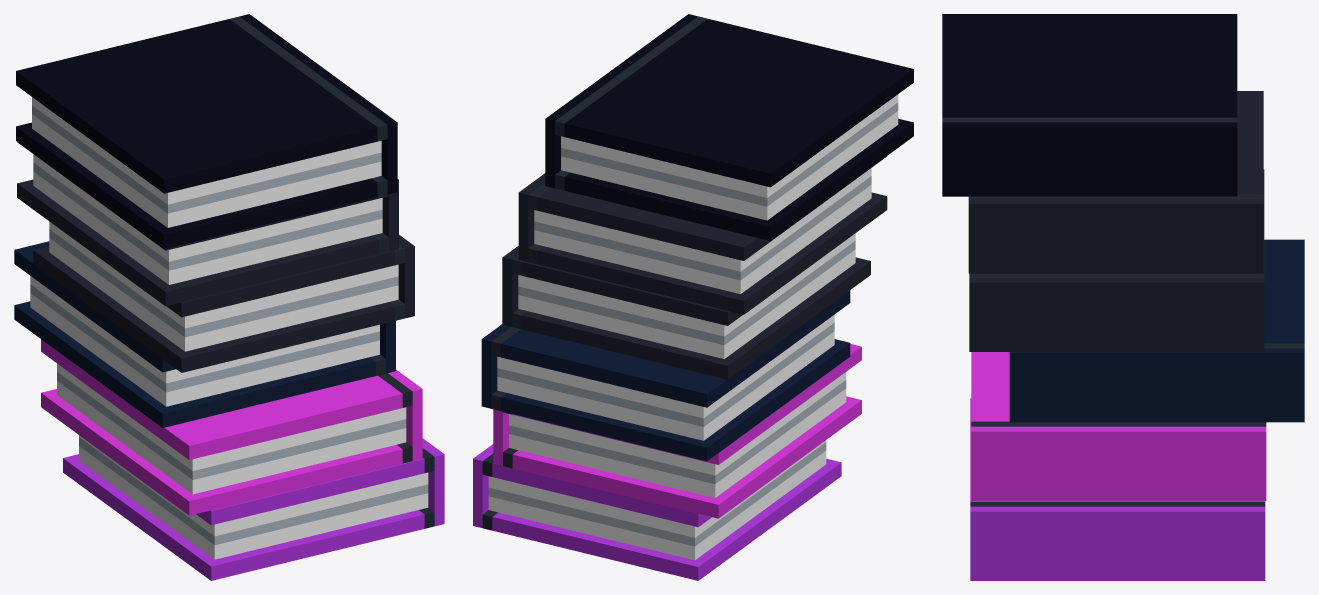
Rendered from Book_Bunch09.fbx.
3 views of the same model, side by side, from view 1: azimuth 30°, elevation 25°; view 2: azimuth 150°, elevation 25°; view 3: azimuth 270°, elevation 25° (orthographic). The views are drawn at different scales.
Visible parts, largest first — view 1: Cube.261; view 2: Cube.261; view 3: Cube.261.
Part boxes in pixels (x1=…): Cube.261: x1=14, y1=14, x2=444, y2=580; Cube.261: x1=473, y1=14, x2=913, y2=580; Cube.261: x1=942, y1=14, x2=1304, y2=580.
Size of the model in its own units: 38.62 by 53.46 by 41.38.
